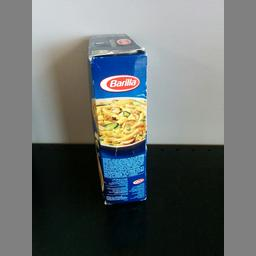pasta: (86, 32, 148, 205)
